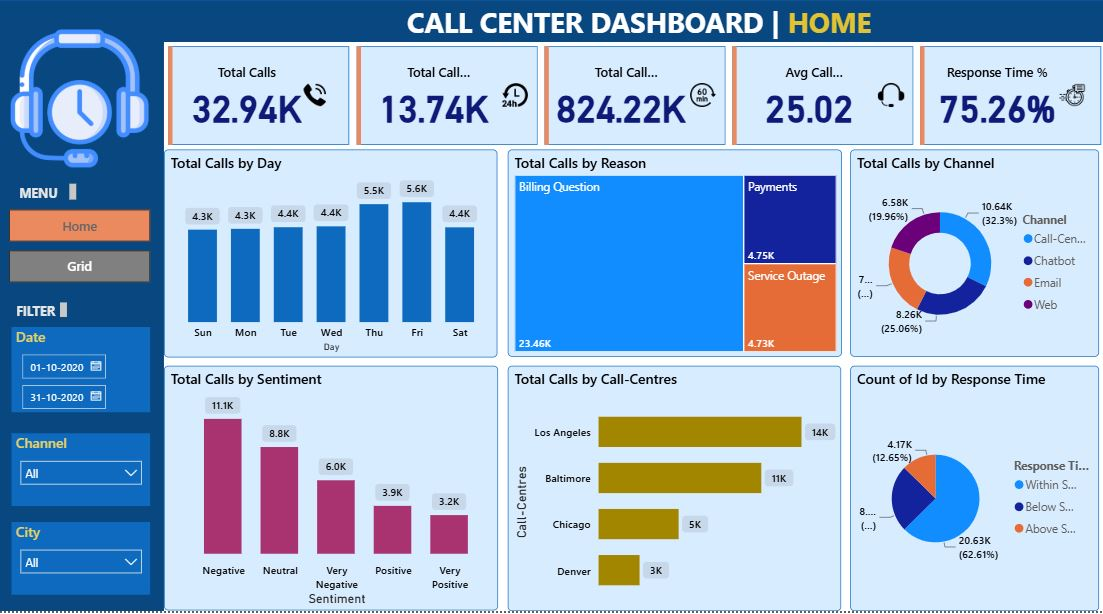

This screenshot's page, from the dashboard's own definition file:
{"tool":"powerbi","page":{"name":"Home","canvas":[1280,720],"ordinal":0},"visuals":[{"type":"shape","box":[0,14.4,1279.7,50.5],"z":0},{"type":"shape","box":[0,64.1,190.4,656.7],"z":1000},{"type":"cardVisual","fields":{"Data":["Call Center_Call Center.Total Calls","Call Center_Call Center.Total Call Duration(Hrs)","Call Center_Call Center.Total Call Duration(min)","Call Center_Call Center.Avg Call Duration(Min)","Call Center_Call Center.Response Time %"]},"box":[190.4,63.5,1089.3,124.1],"z":2000},{"type":"textbox","box":[466,14.4,564.1,54.8],"z":3000},{"type":"columnChart","fields":{"Category":["Datae Table.Day"],"Y":["Call Center_Call Center.Total Calls"]},"box":[190.4,187.6,385,240],"z":4000},{"type":"treemap","fields":{"Group":["Call Center_Call Center.Reason"],"Values":["Call Center_Call Center.Total Calls"]},"box":[587.2,187.6,385.2,239.5],"z":5000},{"type":"donutChart","fields":{"Category":["Call Center_Call Center.Channel"],"Y":["Call Center_Call Center.Total Calls"]},"box":[982.5,187.6,287.1,239.5],"z":6000},{"type":"columnChart","fields":{"Category":["Call Center_Call Center.Sentiment"],"Y":["Call Center_Call Center.Total Calls"]},"box":[190.4,437.2,385.2,282.8],"z":7000},{"type":"barChart","fields":{"Category":["Call Center_Call Center.Call-Centres City"],"Y":["Call Center_Call Center.Total Calls"]},"box":[587,437,385,283],"z":8000},{"type":"slicer","title":"Date","fields":{"Values":["Datae Table.Date"]},"box":[14.4,392.4,160.1,98.1],"z":9000},{"type":"slicer","title":"Channel","fields":{"Values":["Call Center_Call Center.Channel"]},"box":[14.4,515.1,160.1,83.7],"z":10000},{"type":"slicer","title":"City","fields":{"Values":["Call Center_Call Center.City"]},"box":[14.4,617.5,160.1,83.7],"z":11000},{"type":"image","box":[8.7,41.8,168.8,173.1],"z":12000},{"type":"pageNavigator","box":[11.5,256.8,163,85.1],"z":13000},{"type":"textbox","box":[18.8,222.2,75,28.9],"z":14000},{"type":"textbox","box":[14.4,359.2,69.3,33.2],"z":15000},{"type":"pieChart","fields":{"Category":["Call Center_Call Center.Response Time"],"Y":["CountNonNull(Call Center_Call Center.Id)"]},"box":[983,437,287,283],"z":15001}]}

Visuals, with their boxes in screenshot pixels (x1, y1, x2, y2), scaled from the page's 1280x720 canvas onto the 1103x614 screenshot:
shape: 0/12/1102/55
shape: 0/55/164/613
cardVisual - Call Center_Call Center.Total Calls x Call Center_Call Center.Total Call Duration(Hrs): 164/54/1102/160
textbox: 402/12/888/59
columnChart - Datae Table.Day x Call Center_Call Center.Total Calls: 164/160/496/365
treemap - Call Center_Call Center.Reason x Call Center_Call Center.Total Calls: 506/160/838/364
donutChart - Call Center_Call Center.Channel x Call Center_Call Center.Total Calls: 847/160/1094/364
columnChart - Call Center_Call Center.Sentiment x Call Center_Call Center.Total Calls: 164/373/496/613
barChart - Call Center_Call Center.Call-Centres City x Call Center_Call Center.Total Calls: 506/373/838/613
"Date" slicer: 12/335/150/418
"Channel" slicer: 12/439/150/511
"City" slicer: 12/527/150/598
image: 7/36/153/183
pageNavigator: 10/219/150/292
textbox: 16/189/81/214
textbox: 12/306/72/335
pieChart - Call Center_Call Center.Response Time x CountNonNull(Call Center_Call Center.Id): 847/373/1094/613
